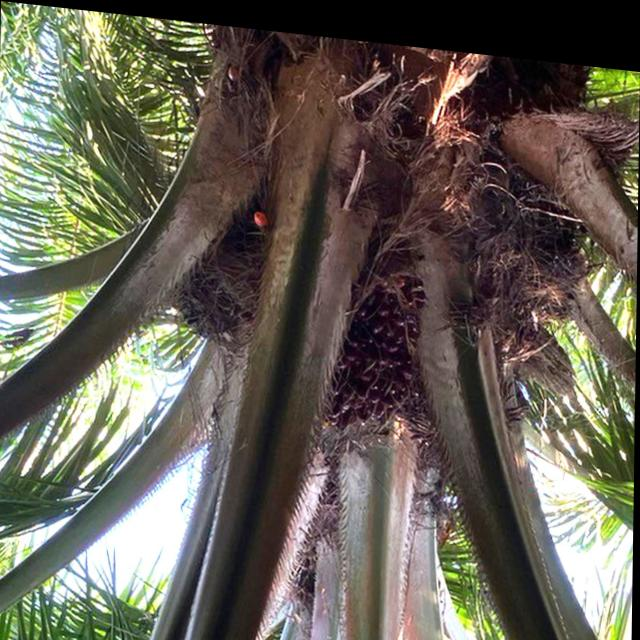ripe: (322, 230, 429, 448)
